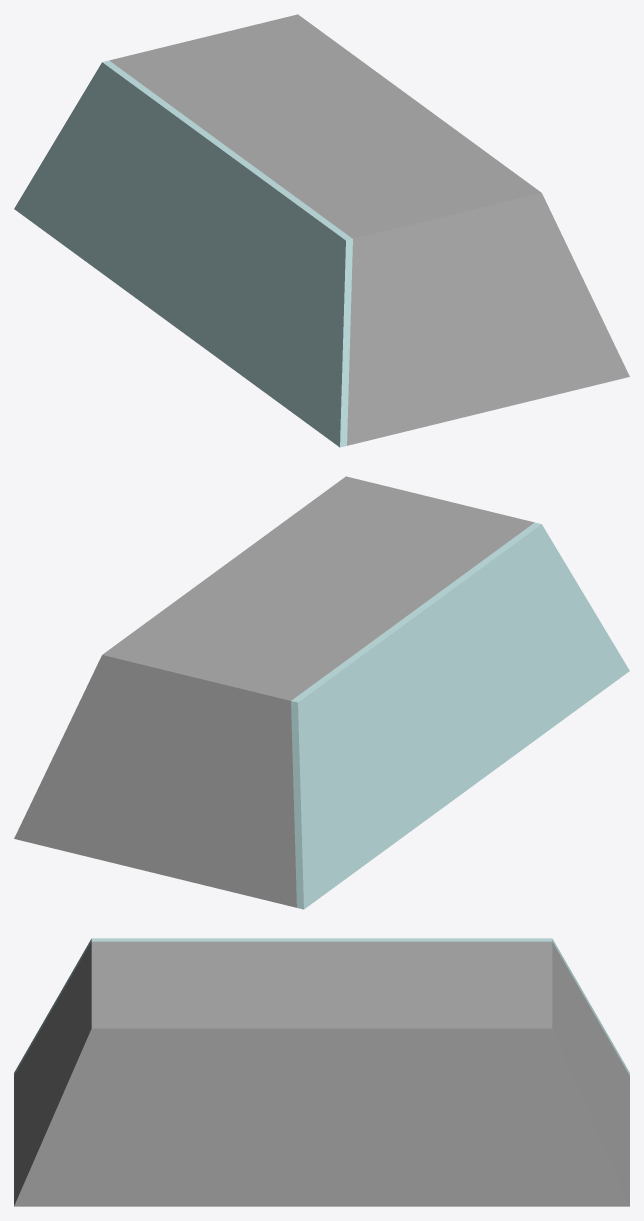
File: anodizing.fbx
3 views of the same model, one above another, from view 1: azimuth 30°, elevation 25°; view 2: azimuth 150°, elevation 25°; view 3: azimuth 270°, elevation 25° (orthographic). The views are drawn at different scales.
Visible parts, largest first — view 1: polySurface7, polySurface8; view 2: polySurface7, polySurface8; view 3: polySurface7, polySurface8.
Part boxes in pixels (x1,y1,x2,y2): polySurface7: (109,14,629,445); polySurface8: (14,60,352,447); polySurface7: (14,476,534,907); polySurface8: (291,522,629,909); polySurface7: (14,941,629,1206); polySurface8: (14,938,629,1075).
Size of the model in its own units: 51.36 by 27.99 by 100.
